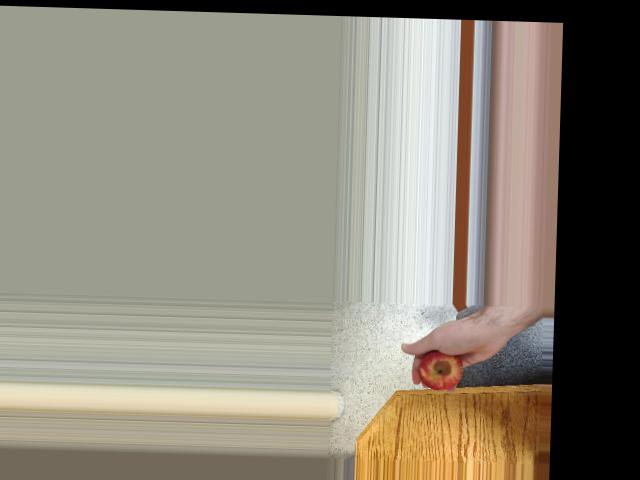apple: (416, 346, 470, 391)
